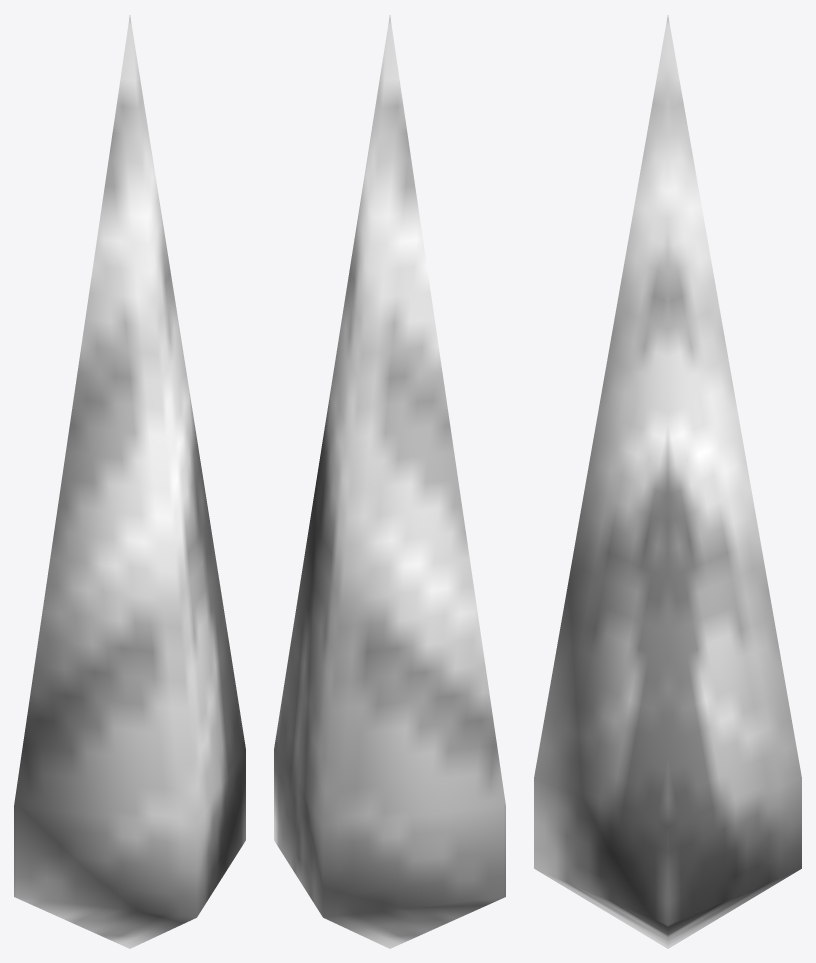
The model's file is Spike.FBX.
The picture shows the model from 3 angles, left to right: view 1: azimuth 30°, elevation 25°; view 2: azimuth 150°, elevation 25°; view 3: azimuth 270°, elevation 25°; orthographic projection.
Parts seen in each view (by area): view 1: Spike; view 2: Spike; view 3: Spike.
Part boxes in pixels (x1,y1,x2,y2): Spike: (14, 15, 245, 948); Spike: (274, 15, 505, 948); Spike: (534, 15, 801, 948).
Size of the model in its own units: 10.68 by 41.13 by 10.68.
1 material, 1 textured.
